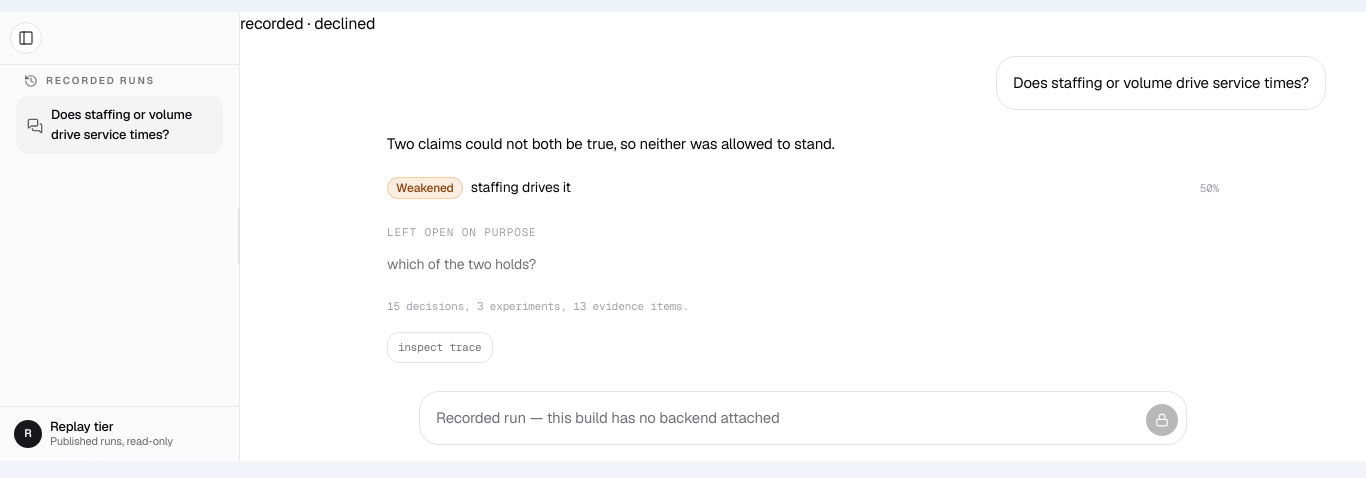
Test: ChatShell › read-only (replay tier) › reveals the full reason on hover, and keeps it reachable without one
Hover over the element named "Message input" below "which of the two holds?".
mouse_move(803, 418)  # box left=419, top=390, right=1187, bottom=444
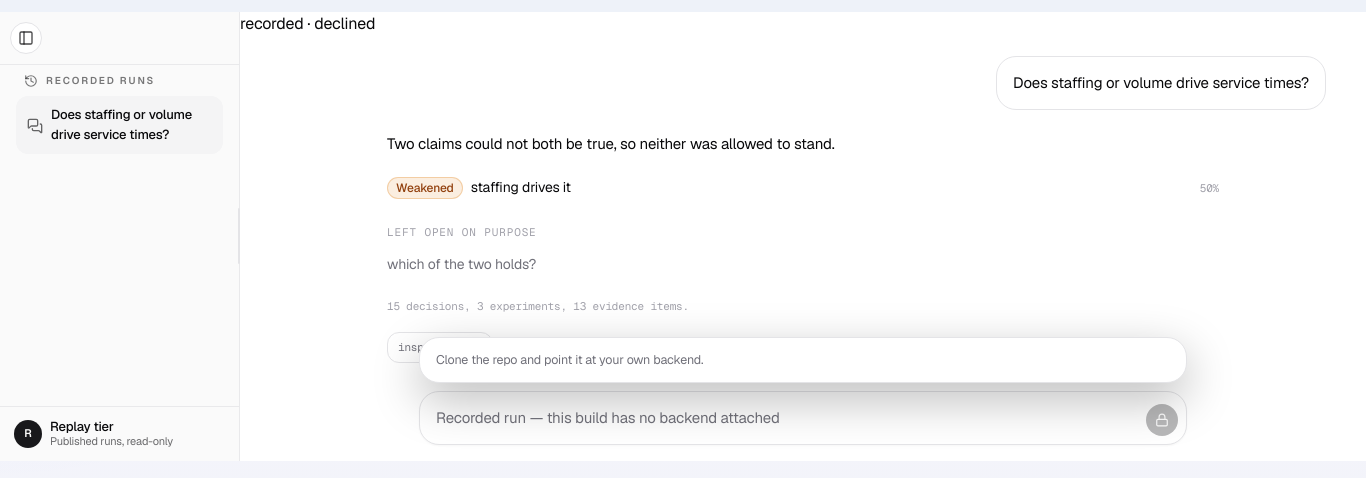
Now the tooltip reads "Clone the repo and point it at your own backend.", box left=436, top=350, right=703, bottom=368
